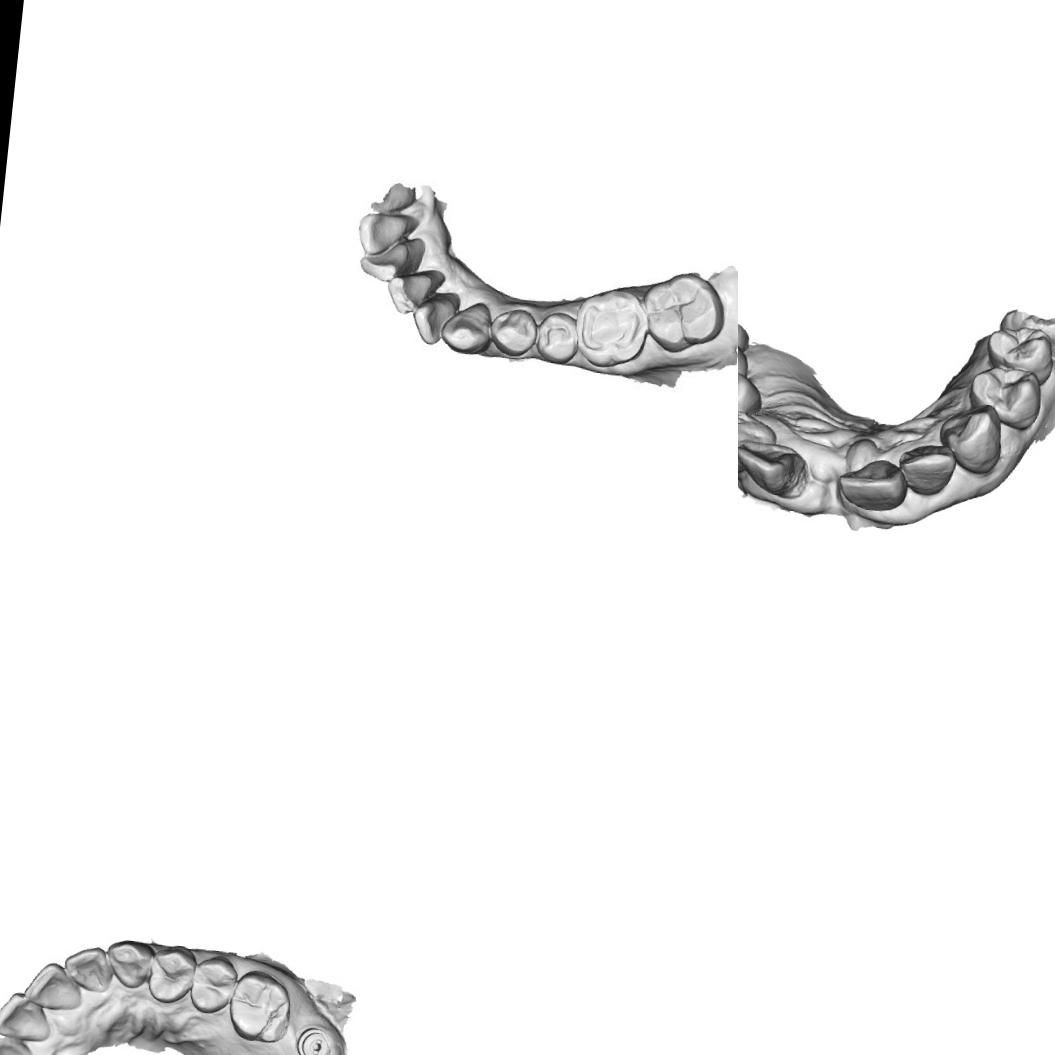canine: (935, 399, 1006, 477), (439, 302, 499, 356), (738, 405, 779, 478), (102, 936, 156, 991)
implant_minus: (293, 1024, 334, 1055)
incisor: (738, 438, 810, 501), (835, 455, 911, 514), (895, 439, 958, 499), (352, 206, 418, 260), (22, 960, 86, 1012), (386, 266, 444, 318), (0, 989, 54, 1044), (61, 942, 116, 995), (408, 298, 460, 350), (358, 240, 417, 285)
molar: (640, 266, 728, 359), (570, 285, 653, 372), (225, 966, 295, 1046)
premolar: (965, 360, 1045, 432), (982, 321, 1055, 388), (188, 952, 240, 1016), (146, 942, 198, 1006), (488, 307, 542, 361), (534, 310, 582, 367), (738, 367, 766, 434)
